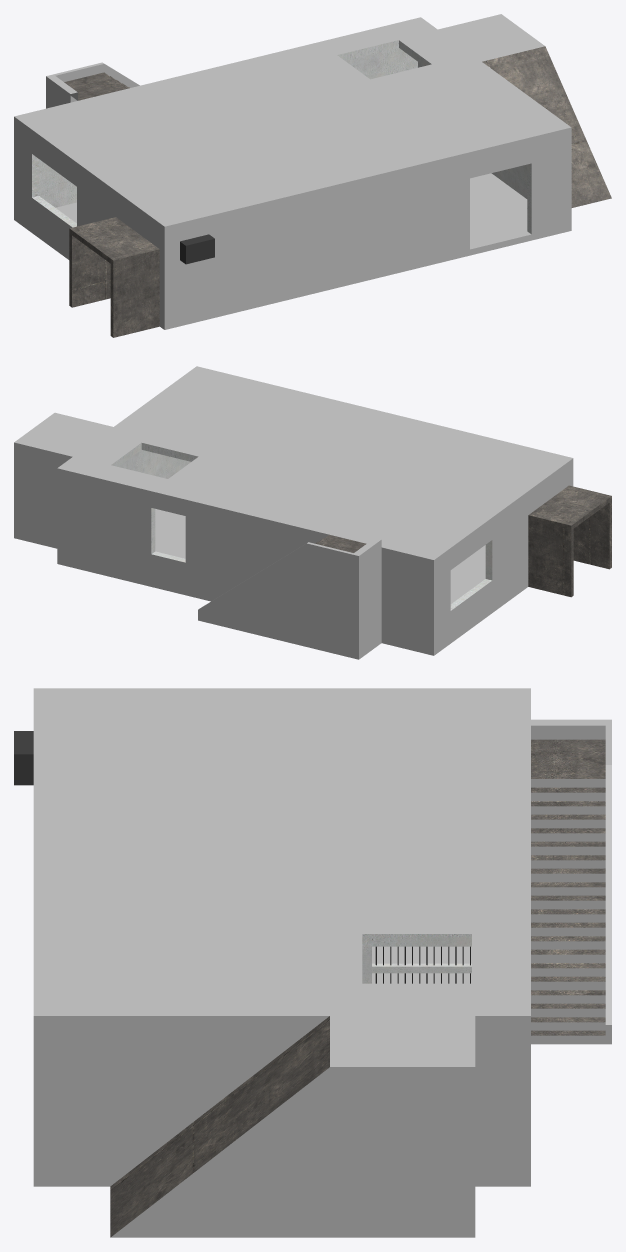
File: Course.fbx
3 views of the same model, one above another, from view 1: azimuth 30°, elevation 25°; view 2: azimuth 150°, elevation 25°; view 3: azimuth 270°, elevation 25° (orthographic). The views are drawn at different scales.
Visible parts, largest first — view 1: House, Outside Thing, Ramp, Stairs, Wall Cube; view 2: House, Stairs, Outside Thing, Ramp; view 3: House, Ramp, Stairs, Wall, Wall Cube, Fence.
Part boxes in pixels (x1=…): House: x1=14, y1=17, x2=571, y2=329; Outside Thing: x1=69, y1=217, x2=159, y2=337; Ramp: x1=438, y1=14, x2=611, y2=207; Stairs: x1=46, y1=62, x2=139, y2=108; Wall Cube: x1=180, y1=234, x2=214, y2=264; House: x1=57, y1=366, x2=573, y2=655; Stairs: x1=198, y1=534, x2=381, y2=659; Outside Thing: x1=528, y1=485, x2=611, y2=597; Ramp: x1=14, y1=412, x2=112, y2=548; House: x1=33, y1=688, x2=530, y2=1186; Ramp: x1=110, y1=1016, x2=475, y2=1237; Stairs: x1=531, y1=719, x2=611, y2=1044; Wall: x1=362, y1=946, x2=471, y2=983; Wall Cube: x1=14, y1=731, x2=33, y2=785; Fence: x1=375, y1=946, x2=470, y2=983.
Bounding box in the file's own units: 3537 × 732 × 2147.
